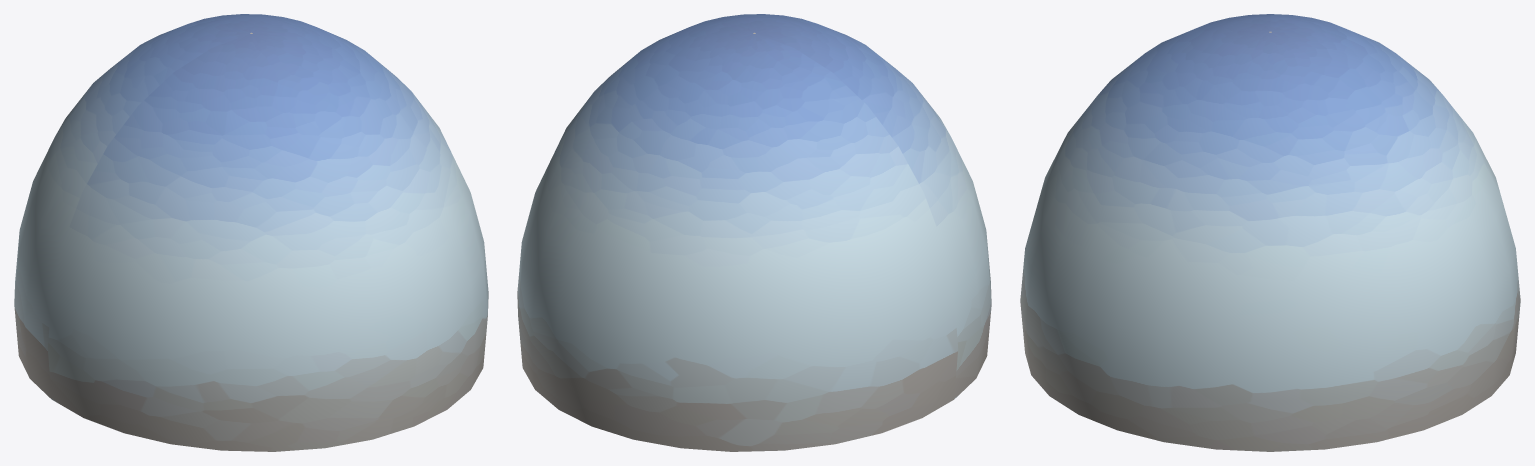
Rendered from sky.obj.
The picture shows the model from 3 angles, left to right: view 1: azimuth 30°, elevation 25°; view 2: azimuth 150°, elevation 25°; view 3: azimuth 270°, elevation 25°; orthographic projection.
Visible parts, largest first — view 1: Sphere; view 2: Sphere; view 3: Sphere.
Part boxes in pixels (x1,y1,x2,y2): Sphere: [14, 14, 488, 451]; Sphere: [517, 14, 991, 451]; Sphere: [1020, 14, 1520, 451].
Size of the model in its own units: 1761 by 1312 by 1852.
